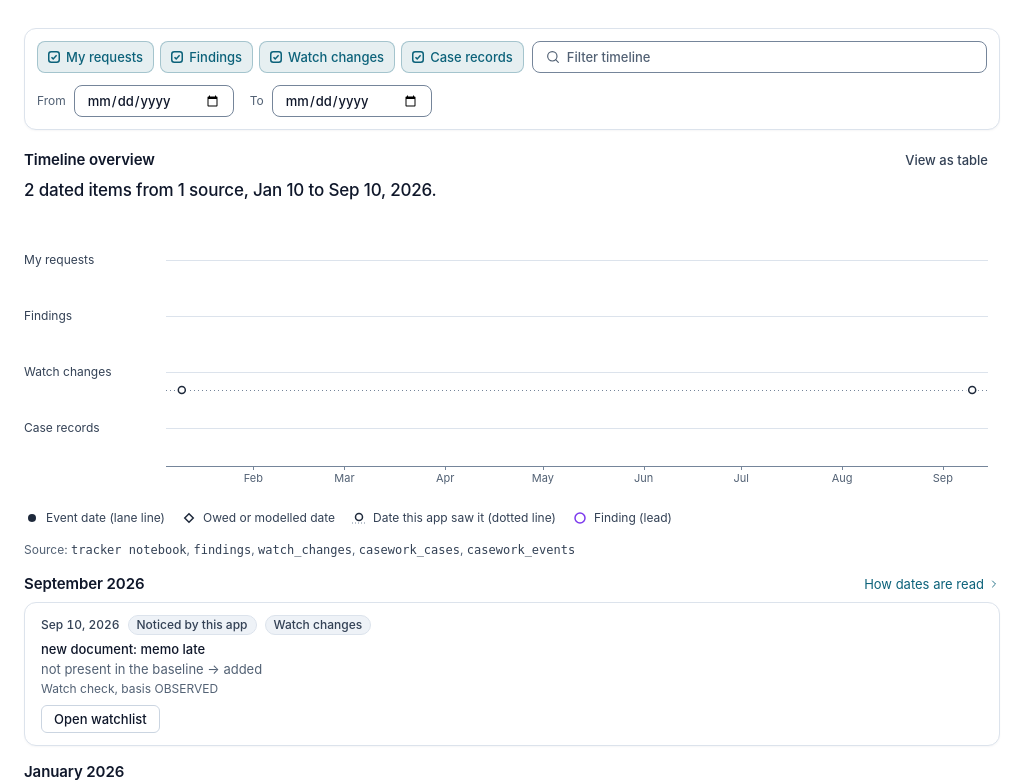
it: CaseTimeline › opens a mark outside the date range by clearing the range, then moving to its row
In the date field labelled "From": point(154, 101) [74, 85, 234, 117], type "2026-06-01"
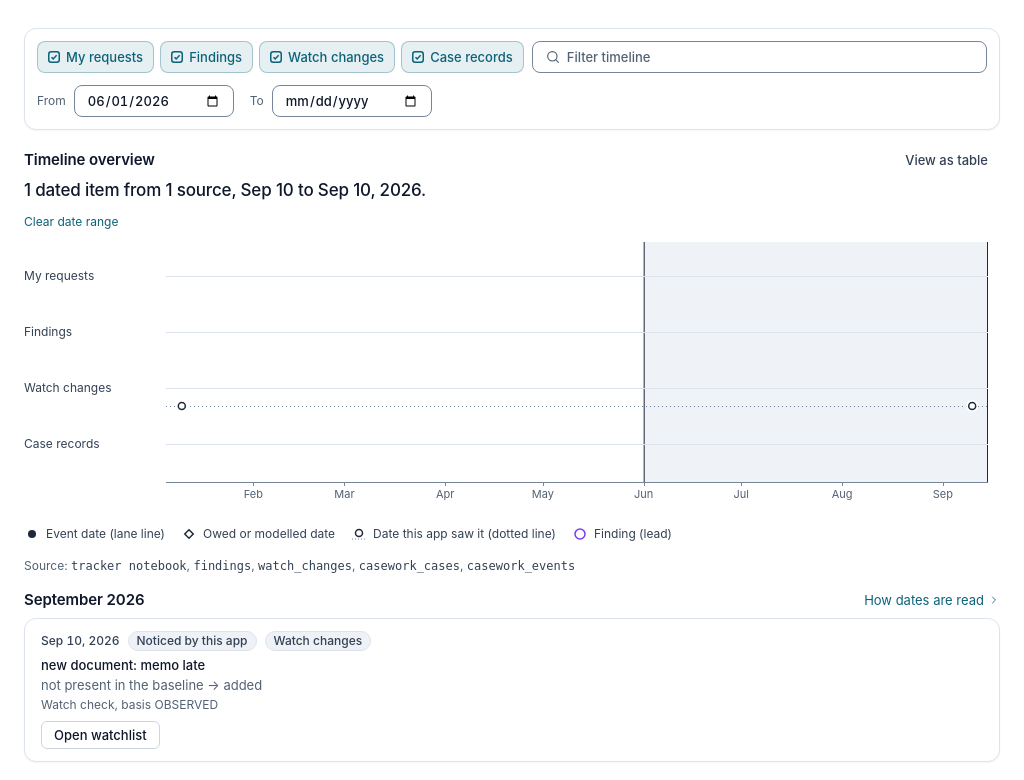
Press Enter in the picture "memo early", box [170, 394, 194, 418]
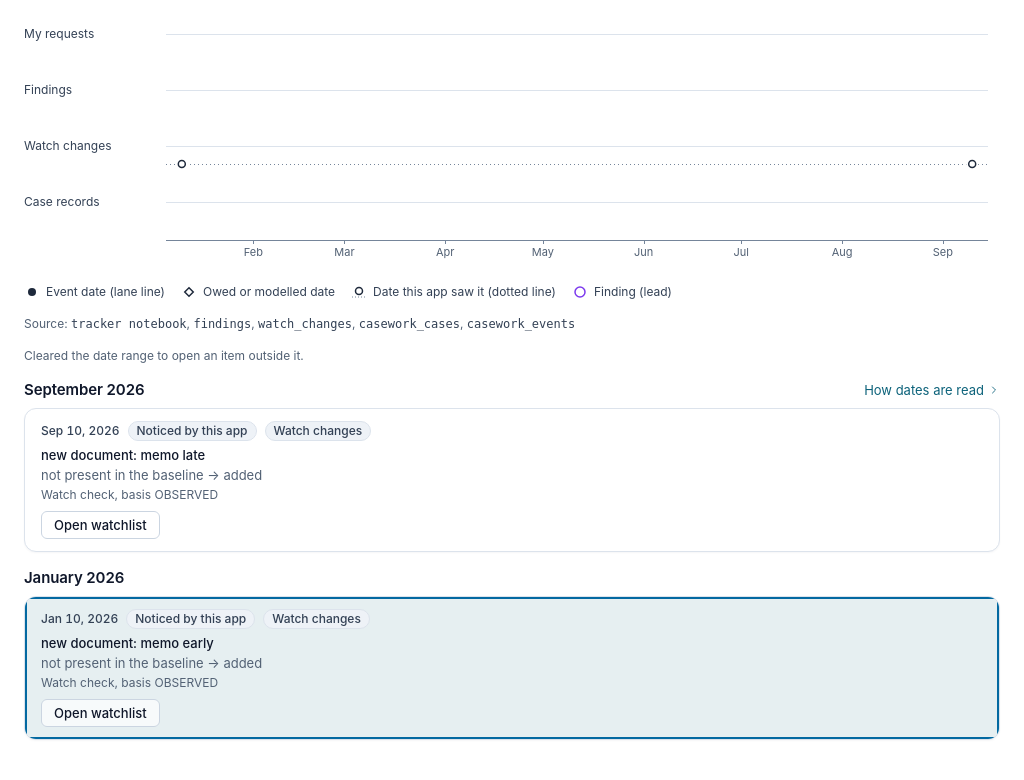
Expected: the text "Cleared the date range to open an item outside it." is shown, [24, 348, 304, 363]
